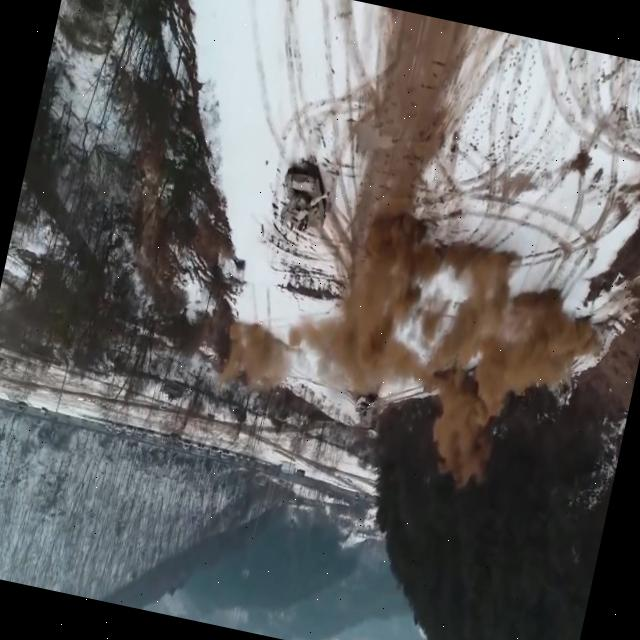korea tank: (269, 161, 338, 241)
